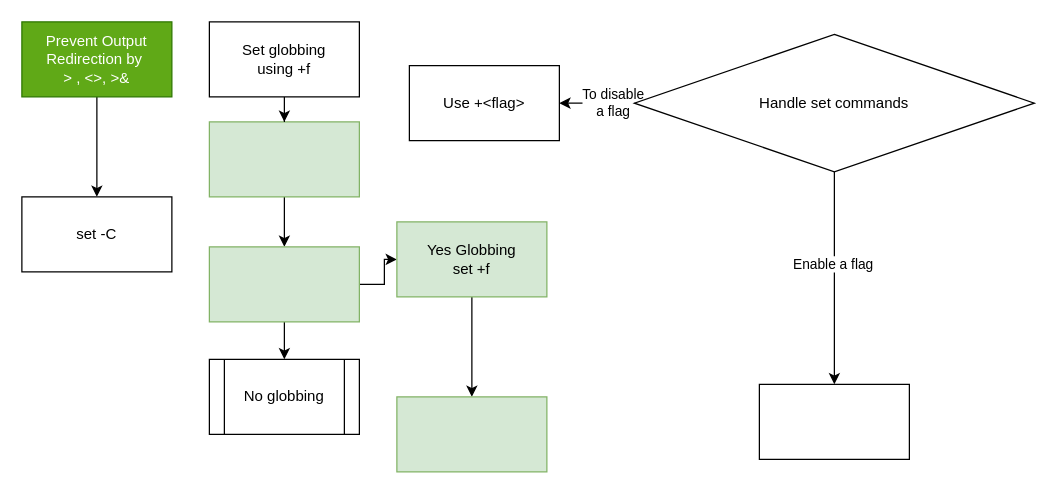
The diagram is 1056 pixels wide and 494 high, and some of its shapes have lost their labels. Here are the shapes that lost their labels. From the top down, the centre of each, then its label:
the point at 283,159: Handle Globbing
the point at 283,284: File name generation using -f
the point at 471,434: Option action is not indicated in the shopt command
the point at 833,421: Use -<flag>
